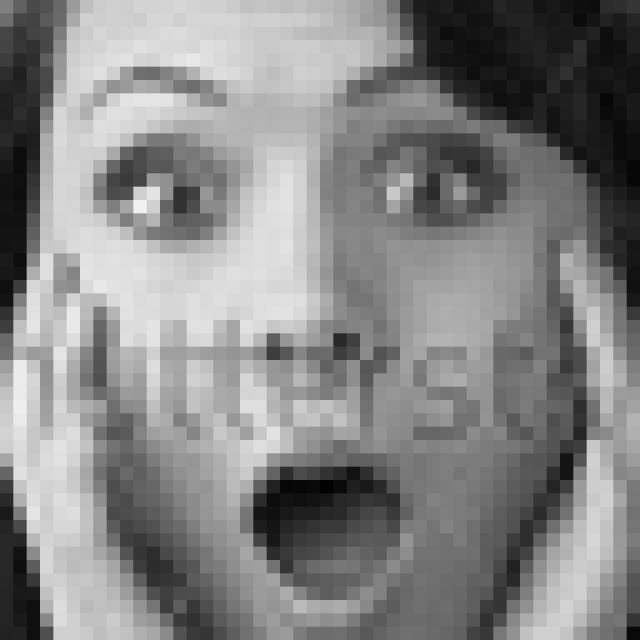surprise: (74, 48, 523, 629)
